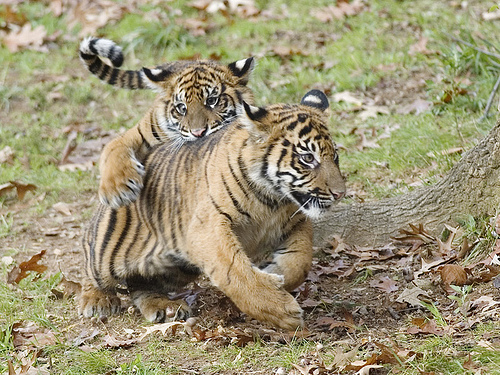Tigre: (99, 104, 406, 337), (81, 33, 254, 167)
